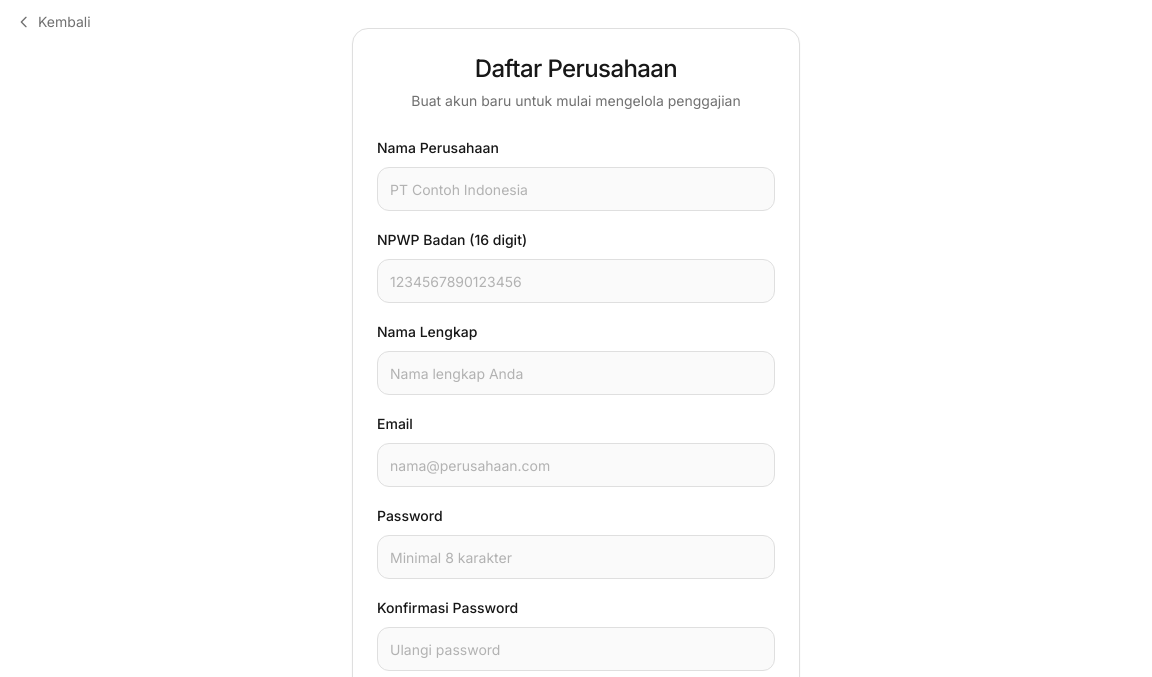
Test: RegisterCompanyPage › shows error when NPWP is not 16 digits
This screenshot has width=1152, height=677.
Type "PT Test Indonesia" into the field labelled "Nama Perusahaan" at (576, 189), box [377,167,775,211]
Type "12345" into the field labelled "NPWP Badan (16 digit)" at (576, 281), box [377,259,775,303]
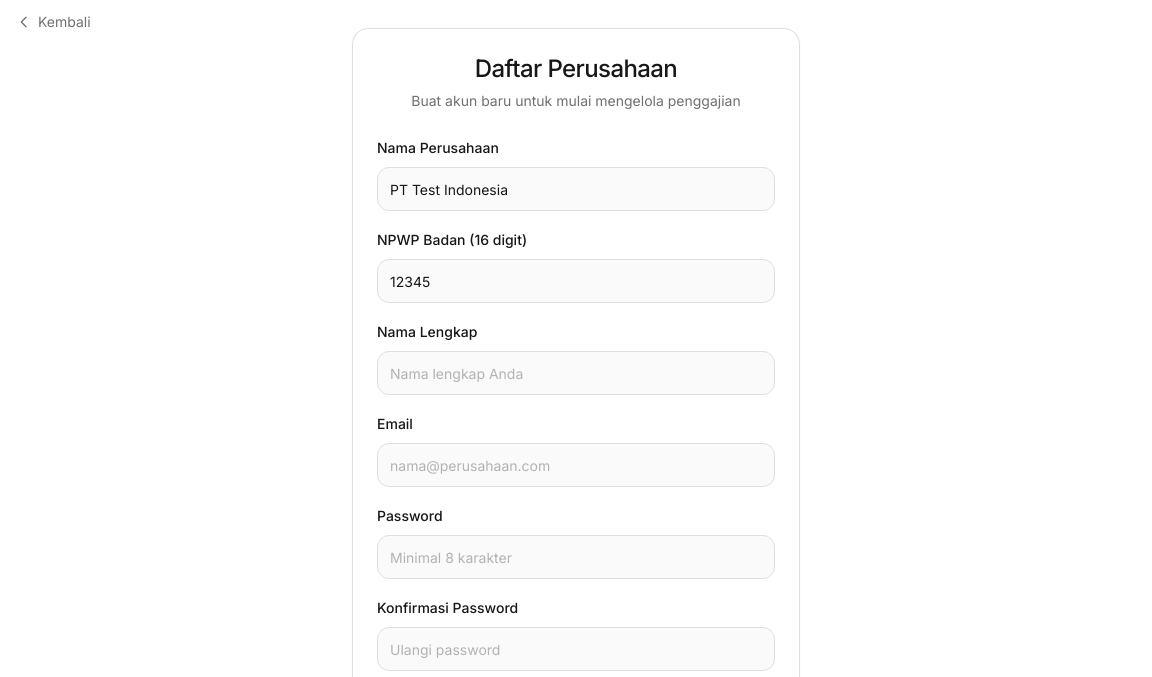
Type "John Doe" into the field labelled "Nama Lengkap" at (576, 373), box [377,351,775,395]
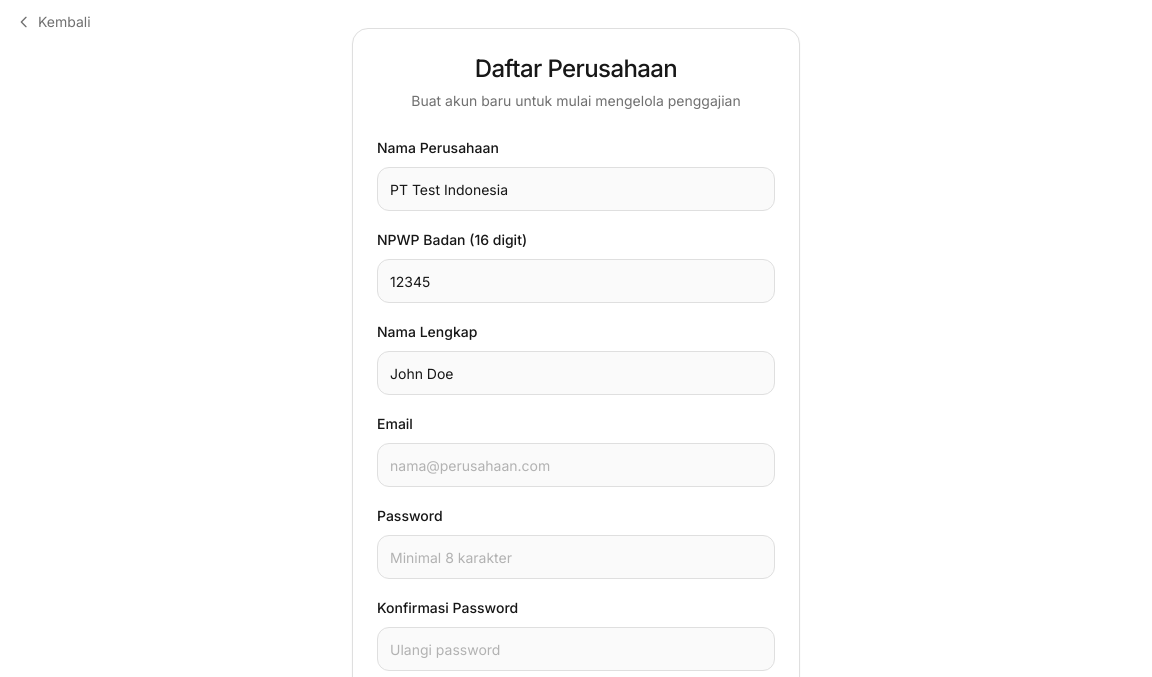
Type "john@test.com" into the field labelled "Email" at (576, 465), box [377,443,775,487]
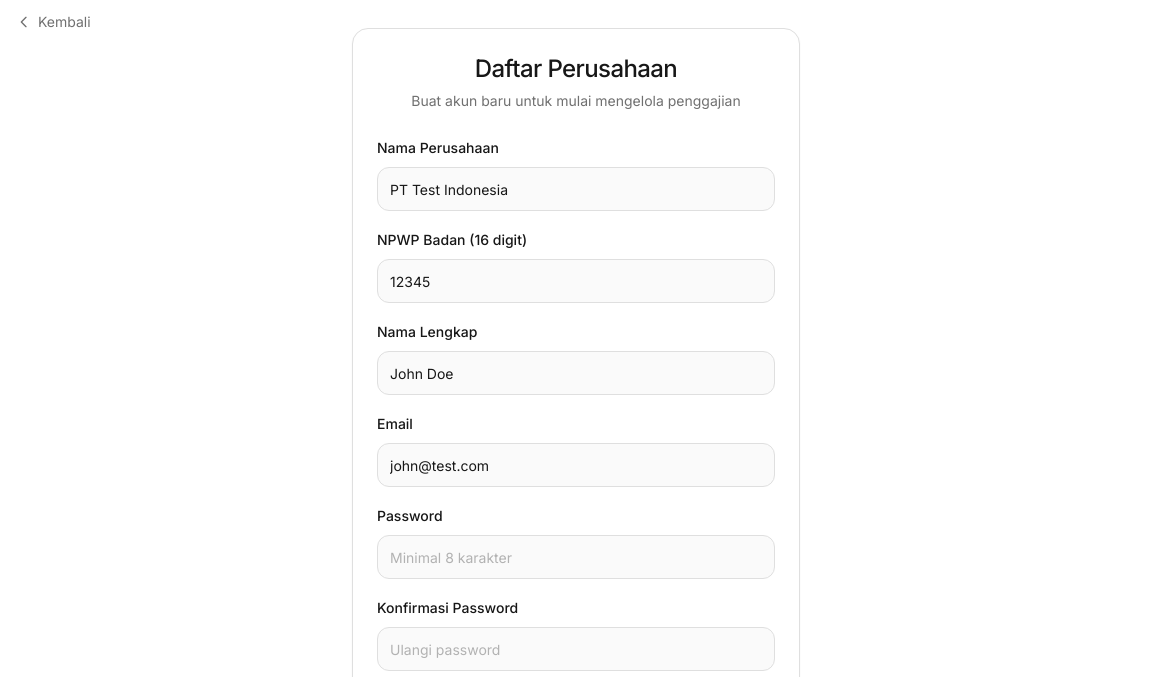
Type "password123" into the password field labelled "Password" at (576, 557), box [377,535,775,579]
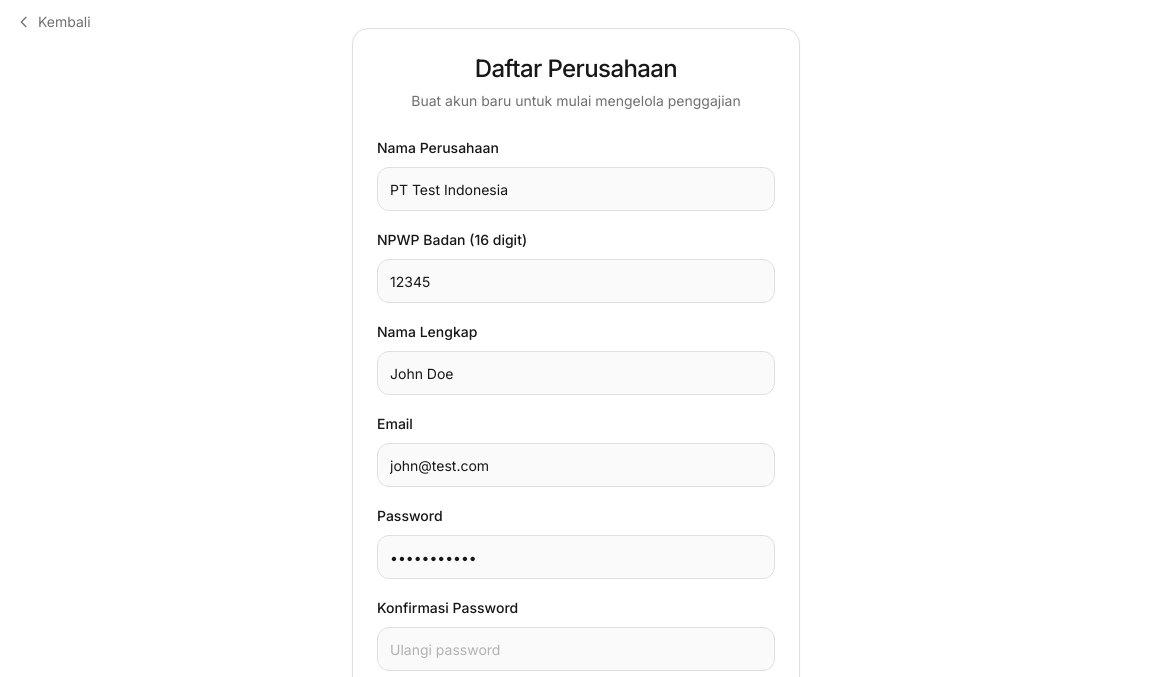
Type "password123" into the password field labelled "Konfirmasi Password" at (576, 649), box [377,627,775,671]
(page scrolled)
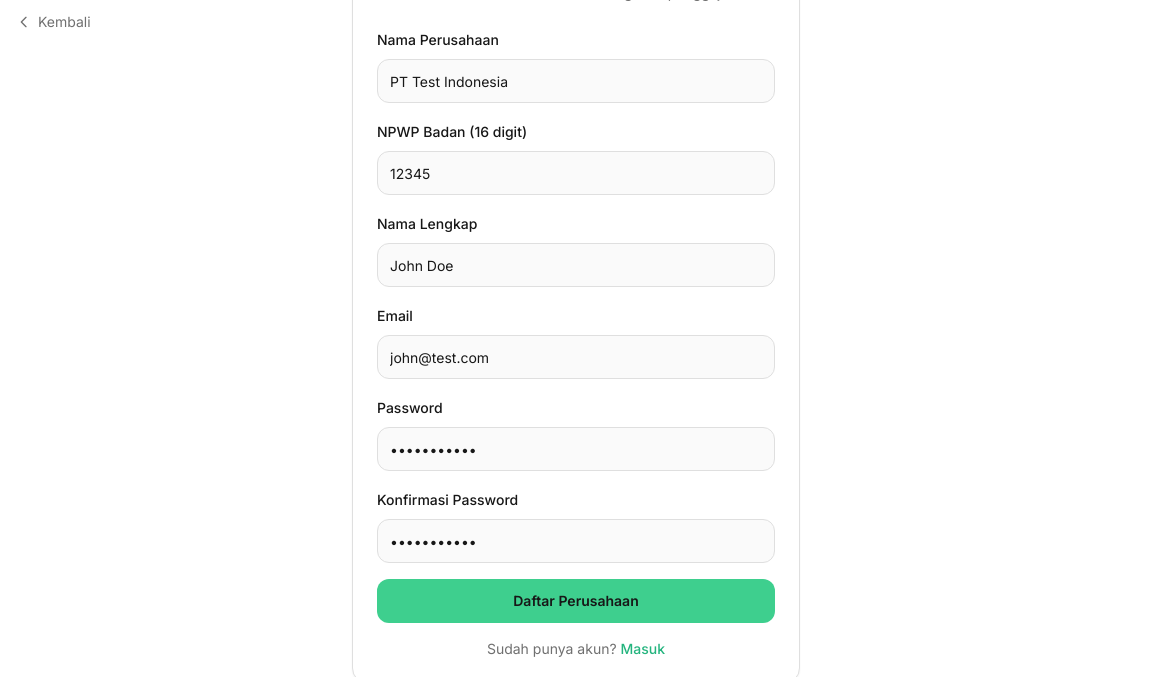
Click the button "Daftar Perusahaan" at (576, 601), box [377,579,775,623]
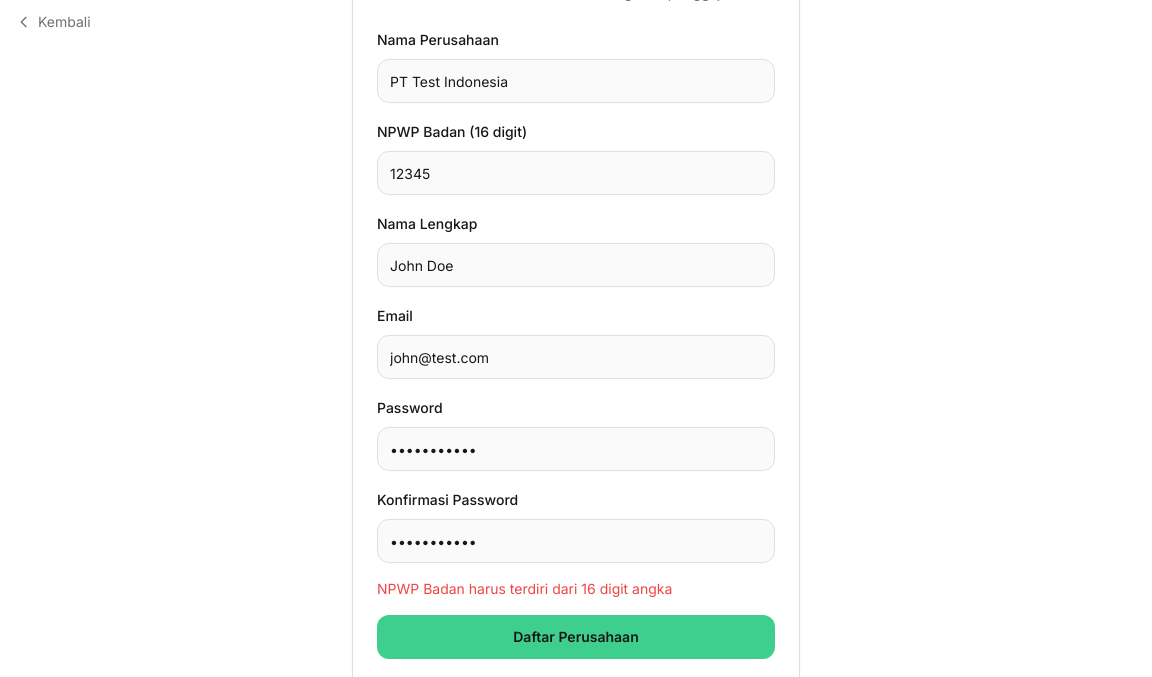
Check: the text "NPWP Badan harus terdiri dari 16 digit angka" is shown, box [377,580,672,597]
